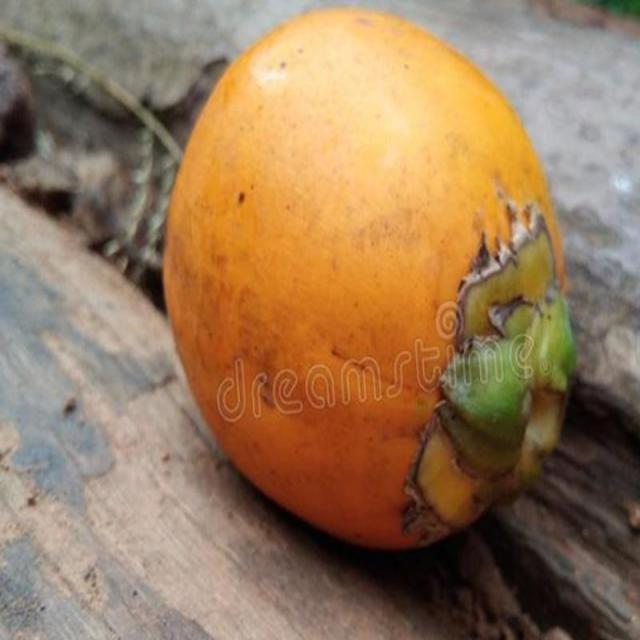good: (161, 9, 578, 556)
